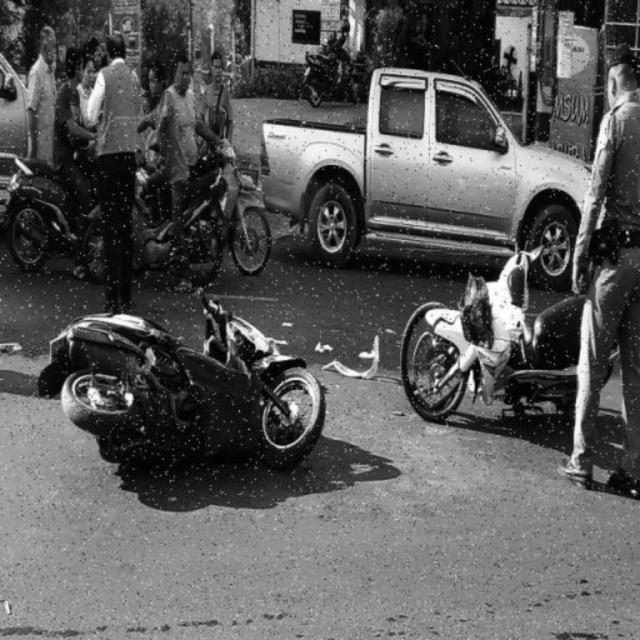accident: (56, 253, 568, 454)
person: (564, 47, 640, 495), (98, 31, 155, 302), (162, 49, 209, 277), (59, 44, 100, 182), (29, 21, 69, 161), (200, 45, 238, 129)
vehicle: (281, 88, 595, 253), (104, 139, 272, 283), (5, 153, 163, 266)
